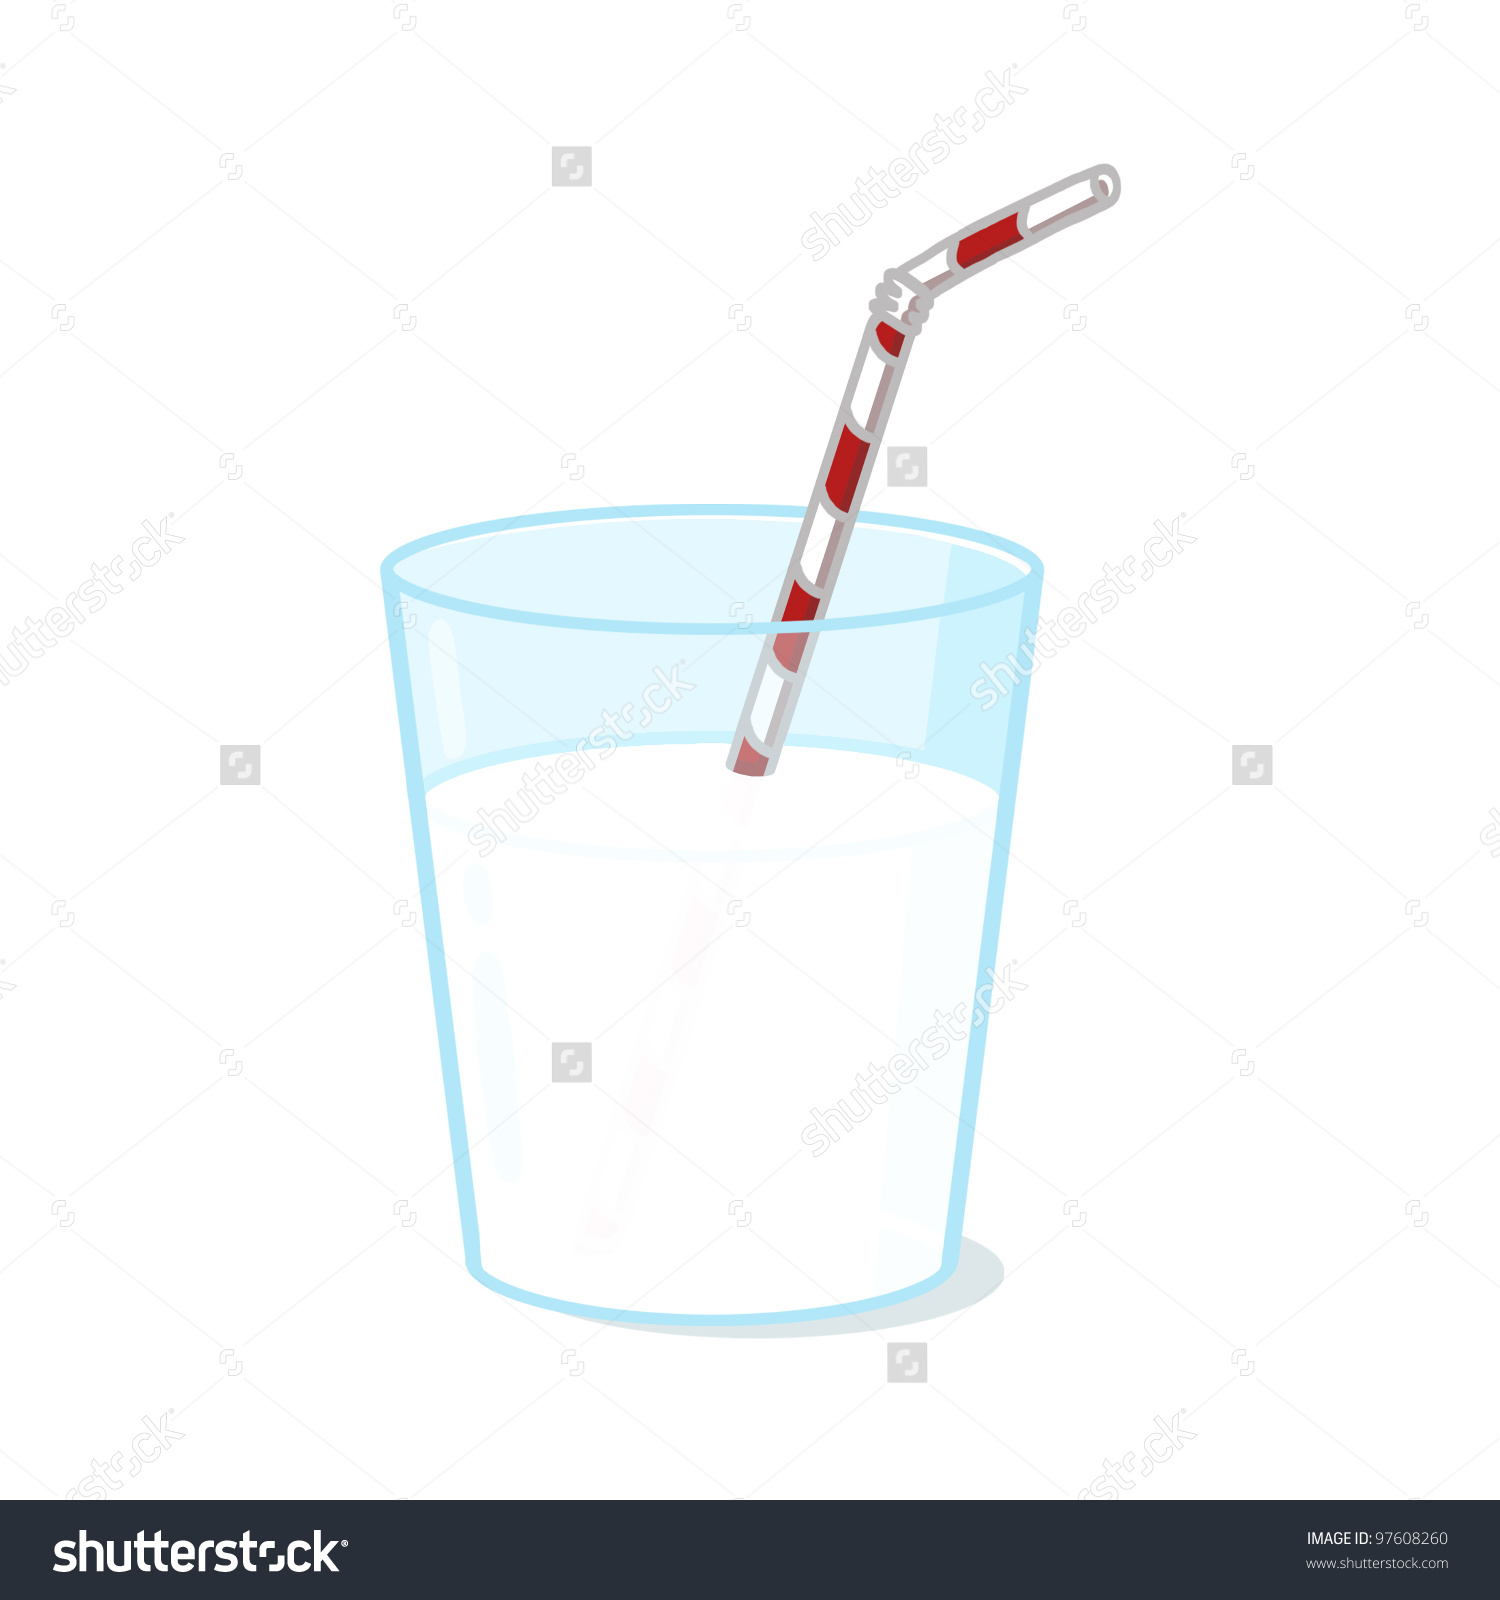glass of milk: (414, 579, 995, 1334)
